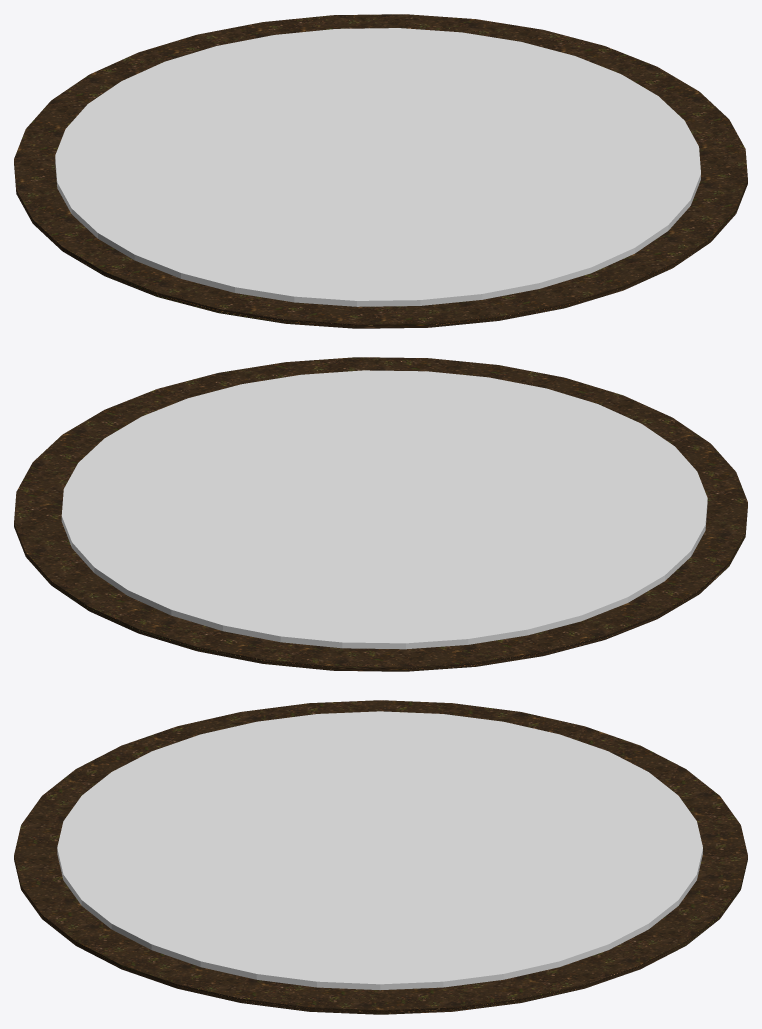
The model's file is floor.glb.
3 renders of one model, top to bottom at view 1: azimuth 30°, elevation 25°; view 2: azimuth 150°, elevation 25°; view 3: azimuth 270°, elevation 25°, orthographic.
Visible parts, largest first — view 1: Cylinder.049; view 2: Cylinder.049; view 3: Cylinder.049.
Boxes of the visible parts, x1,y1,x2,y2 form: Cylinder.049: (14,14,747,328); Cylinder.049: (14,357,747,671); Cylinder.049: (14,700,747,1014).
Bounding box in the file's own units: 15 × 0.232 × 15.
1 material, 1 textured.
